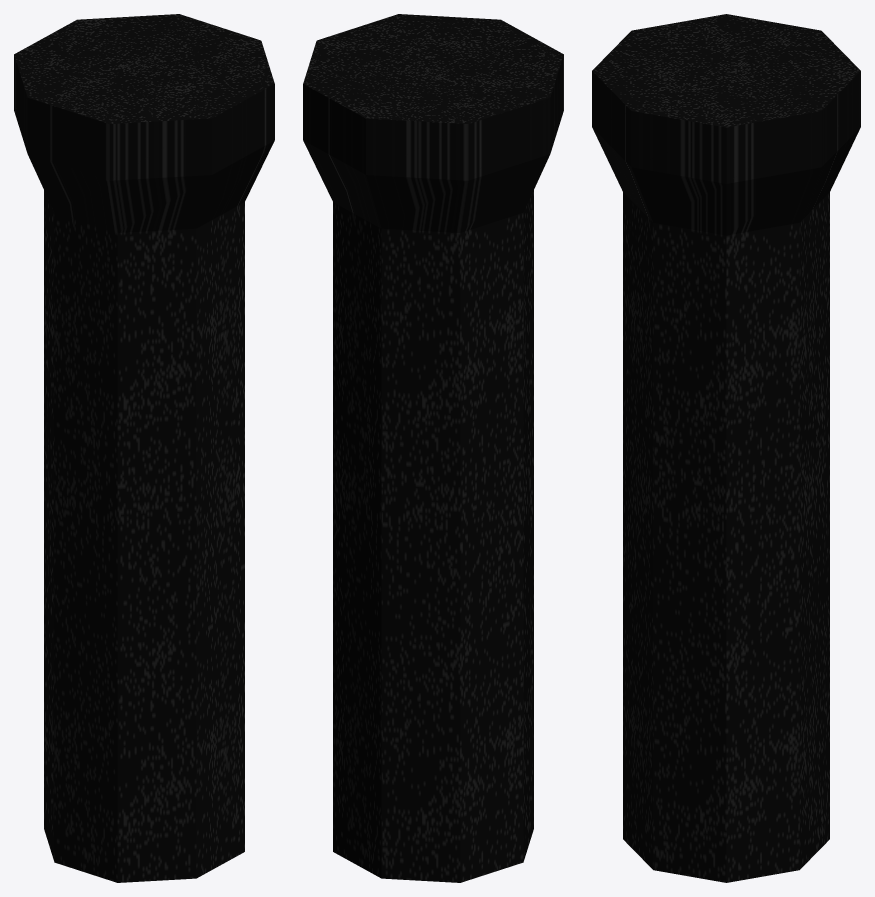
Rendered from pillar.obj.
3 renders of one model, left to right at view 1: azimuth 30°, elevation 25°; view 2: azimuth 150°, elevation 25°; view 3: azimuth 270°, elevation 25°, orthographic.
Visible parts, largest first — view 1: DaisPillars-col; view 2: DaisPillars-col; view 3: DaisPillars-col.
Boxes of the visible parts, box(x1,y1,x2,y2) form: DaisPillars-col: box(14, 14, 274, 882); DaisPillars-col: box(303, 14, 563, 882); DaisPillars-col: box(592, 14, 860, 882).
Bounding box in the file's own units: 0.7528 × 2.37 × 0.7528.
